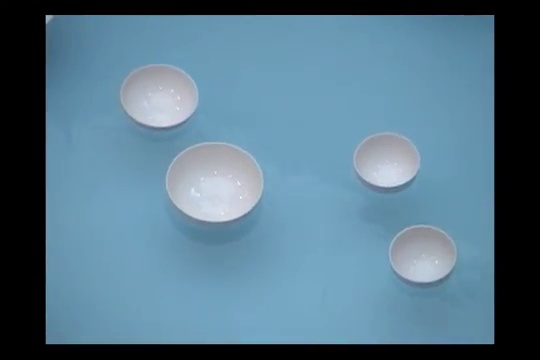bowl: (164, 141, 265, 229), (120, 64, 199, 133), (352, 131, 420, 196), (388, 225, 457, 288)
